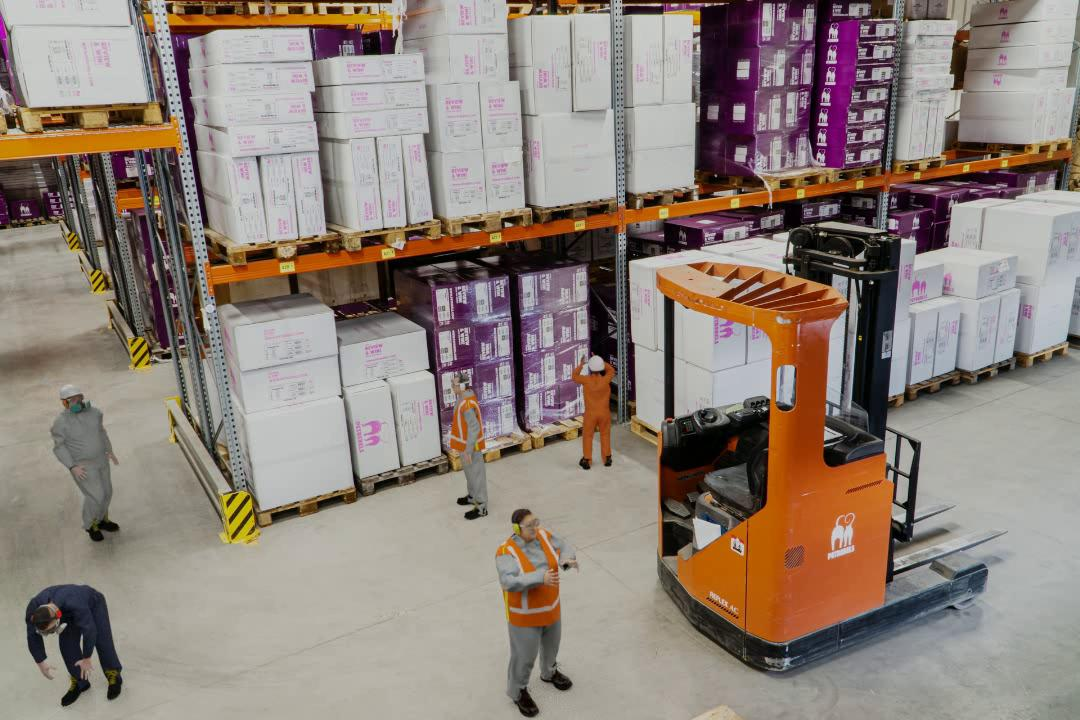Goggles: (519, 515, 550, 527), (444, 385, 459, 393)
Helmet: (587, 356, 604, 372)
Jacket: (510, 542, 572, 635), (449, 398, 492, 452)
Shoes: (538, 661, 575, 697), (47, 677, 94, 705), (505, 687, 543, 718), (101, 667, 129, 700), (458, 497, 496, 517), (571, 445, 595, 474), (452, 485, 483, 507), (600, 446, 619, 468)
